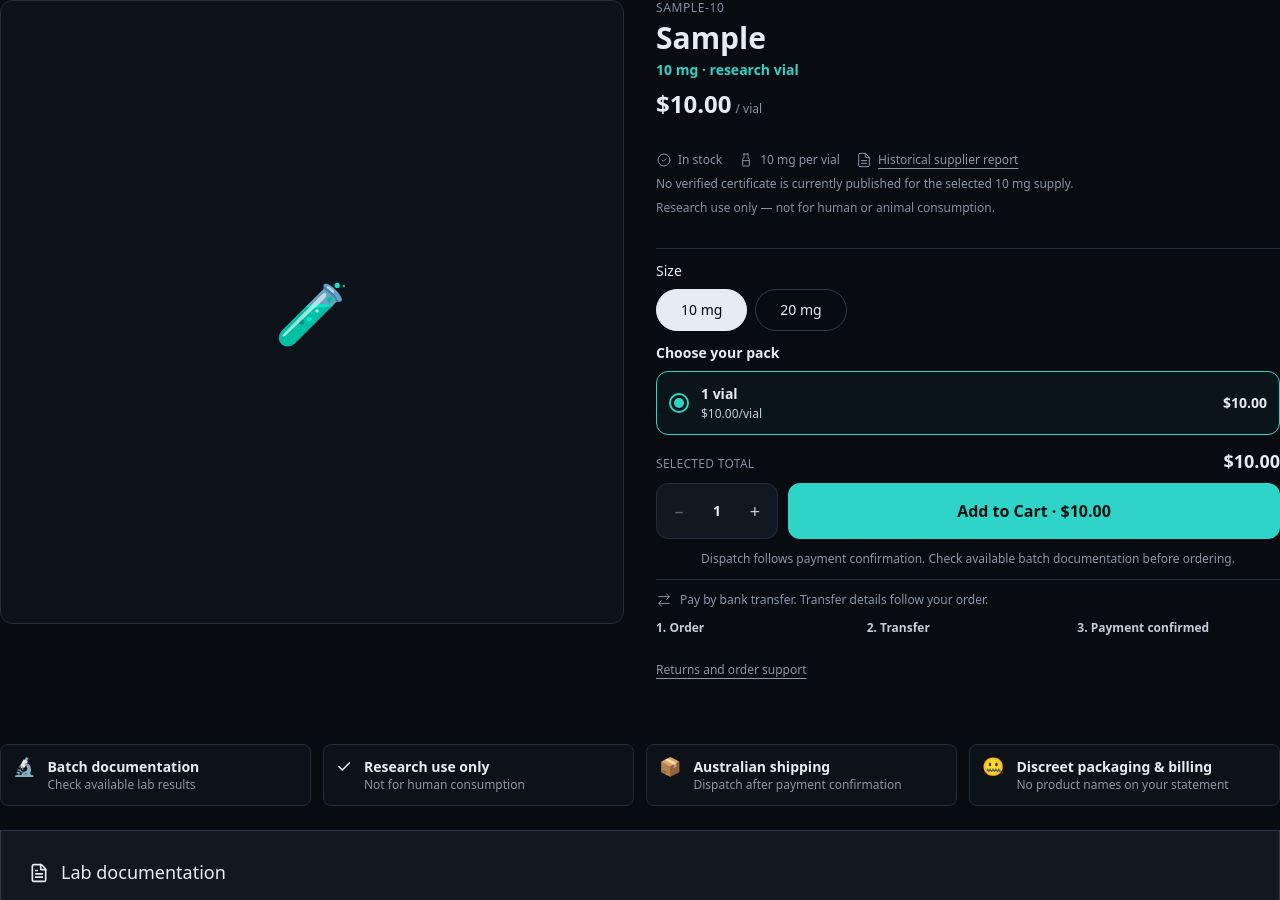
Test: keeps historical sample evidence accessible without presenting it as selected-size certification
Click the radio button labelled "20 mg". click: click(801, 310)
box: x1=755 y1=289 x2=847 y2=331
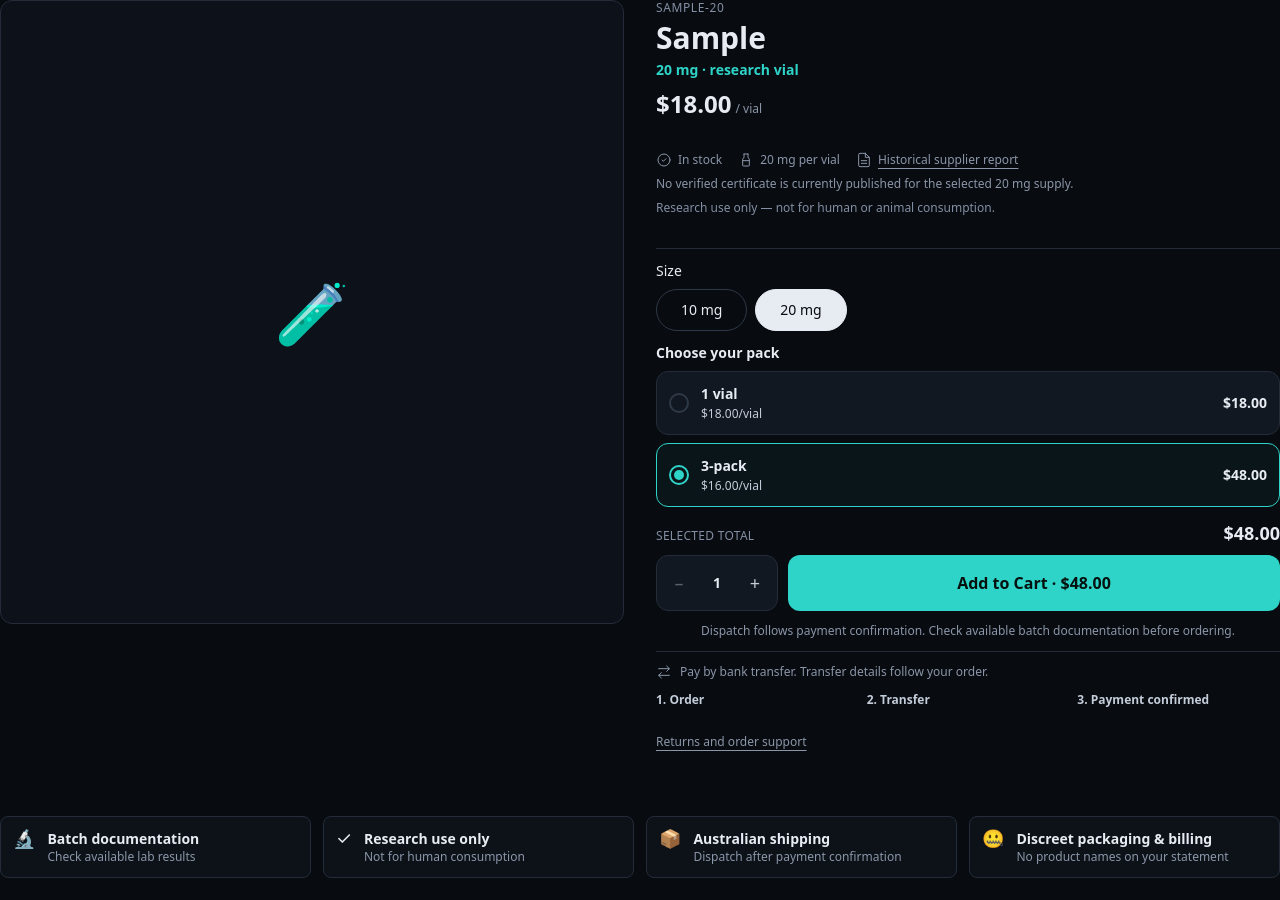
Expected: the text "No verified certificate is currently published for the selected 20 mg supply" is shown, x1=656 y1=175 x2=1074 y2=192
